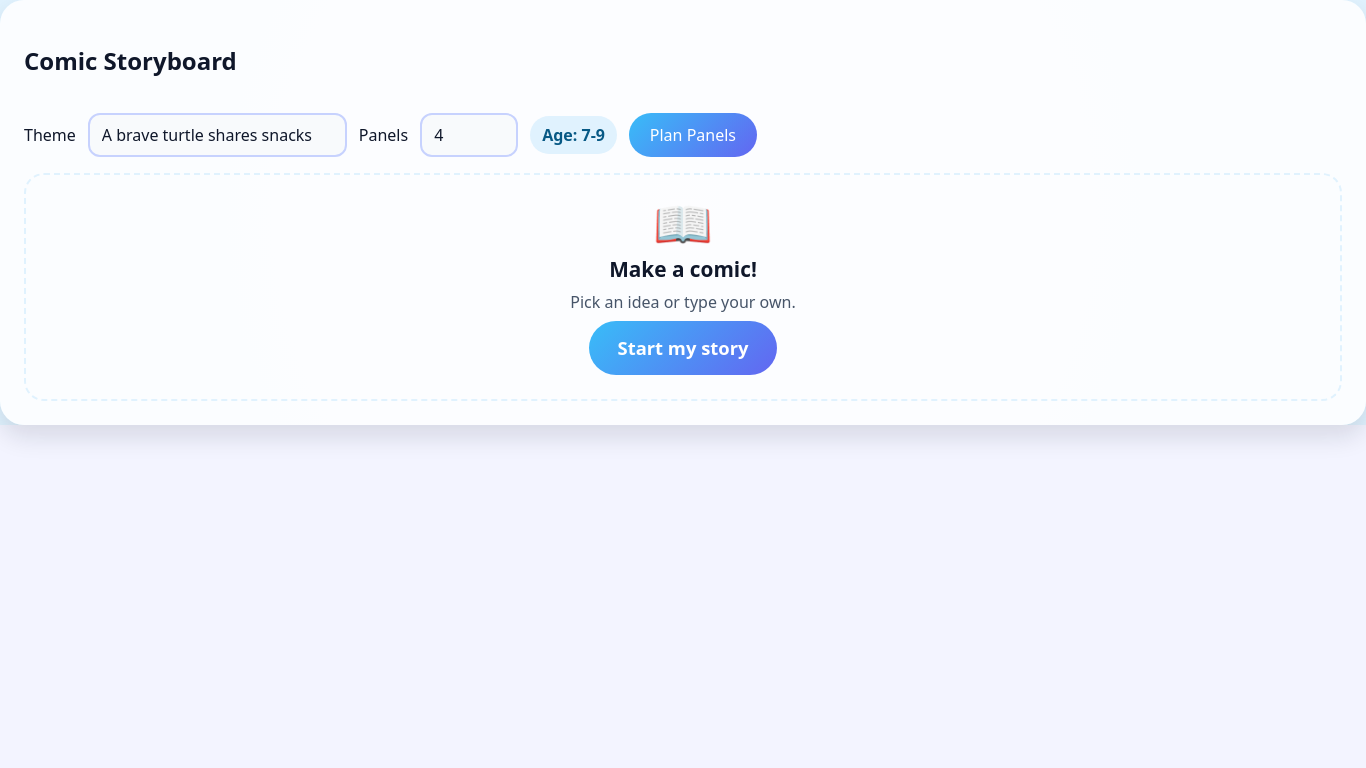
ComicBoard artwork rendering › renders an accessible placeholder for a null imageUrl without dropping panel layout
Click the button "Plan Panels". click: (693, 135)
box: [629,113,757,157]
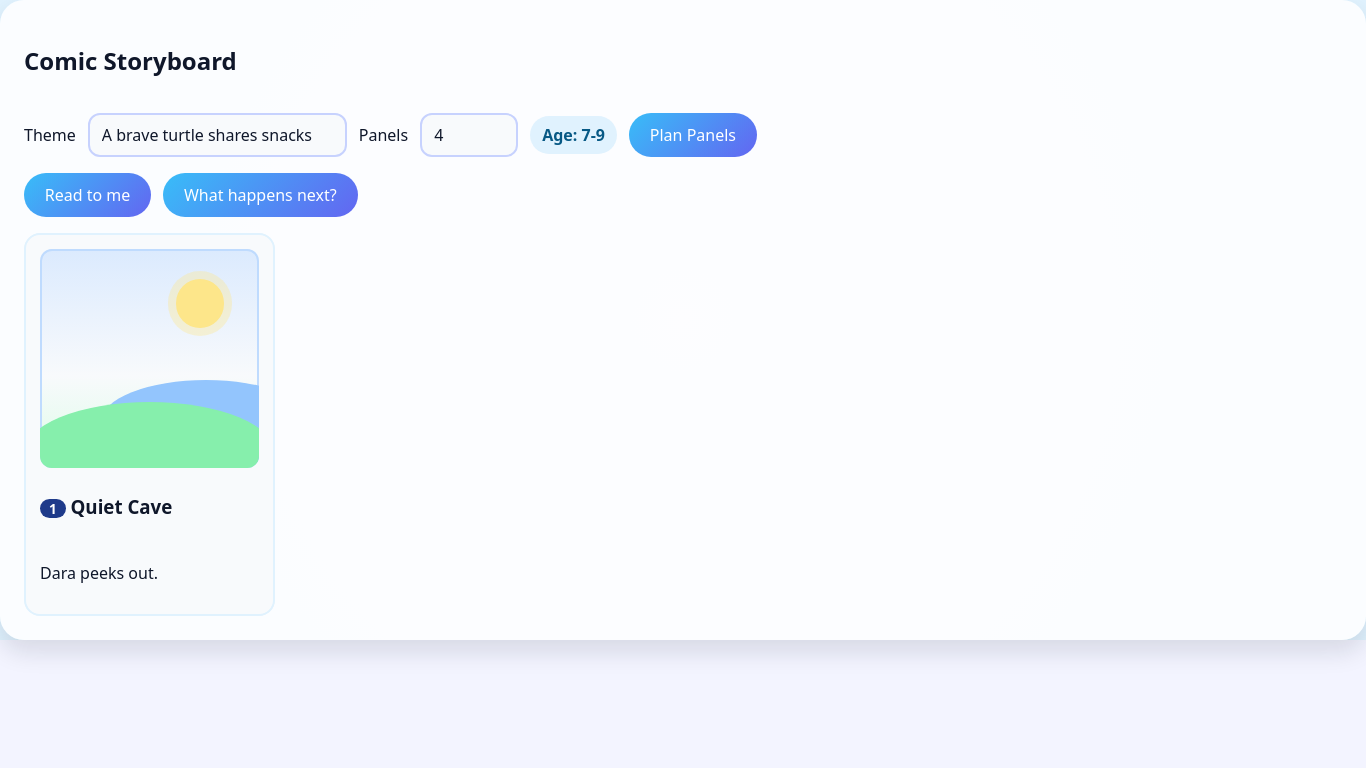
Expected: the text "Quiet Cave" is shown, [70,494,172,519]
Expected: the text "Dara peeks out." is shown, [40,562,158,584]
